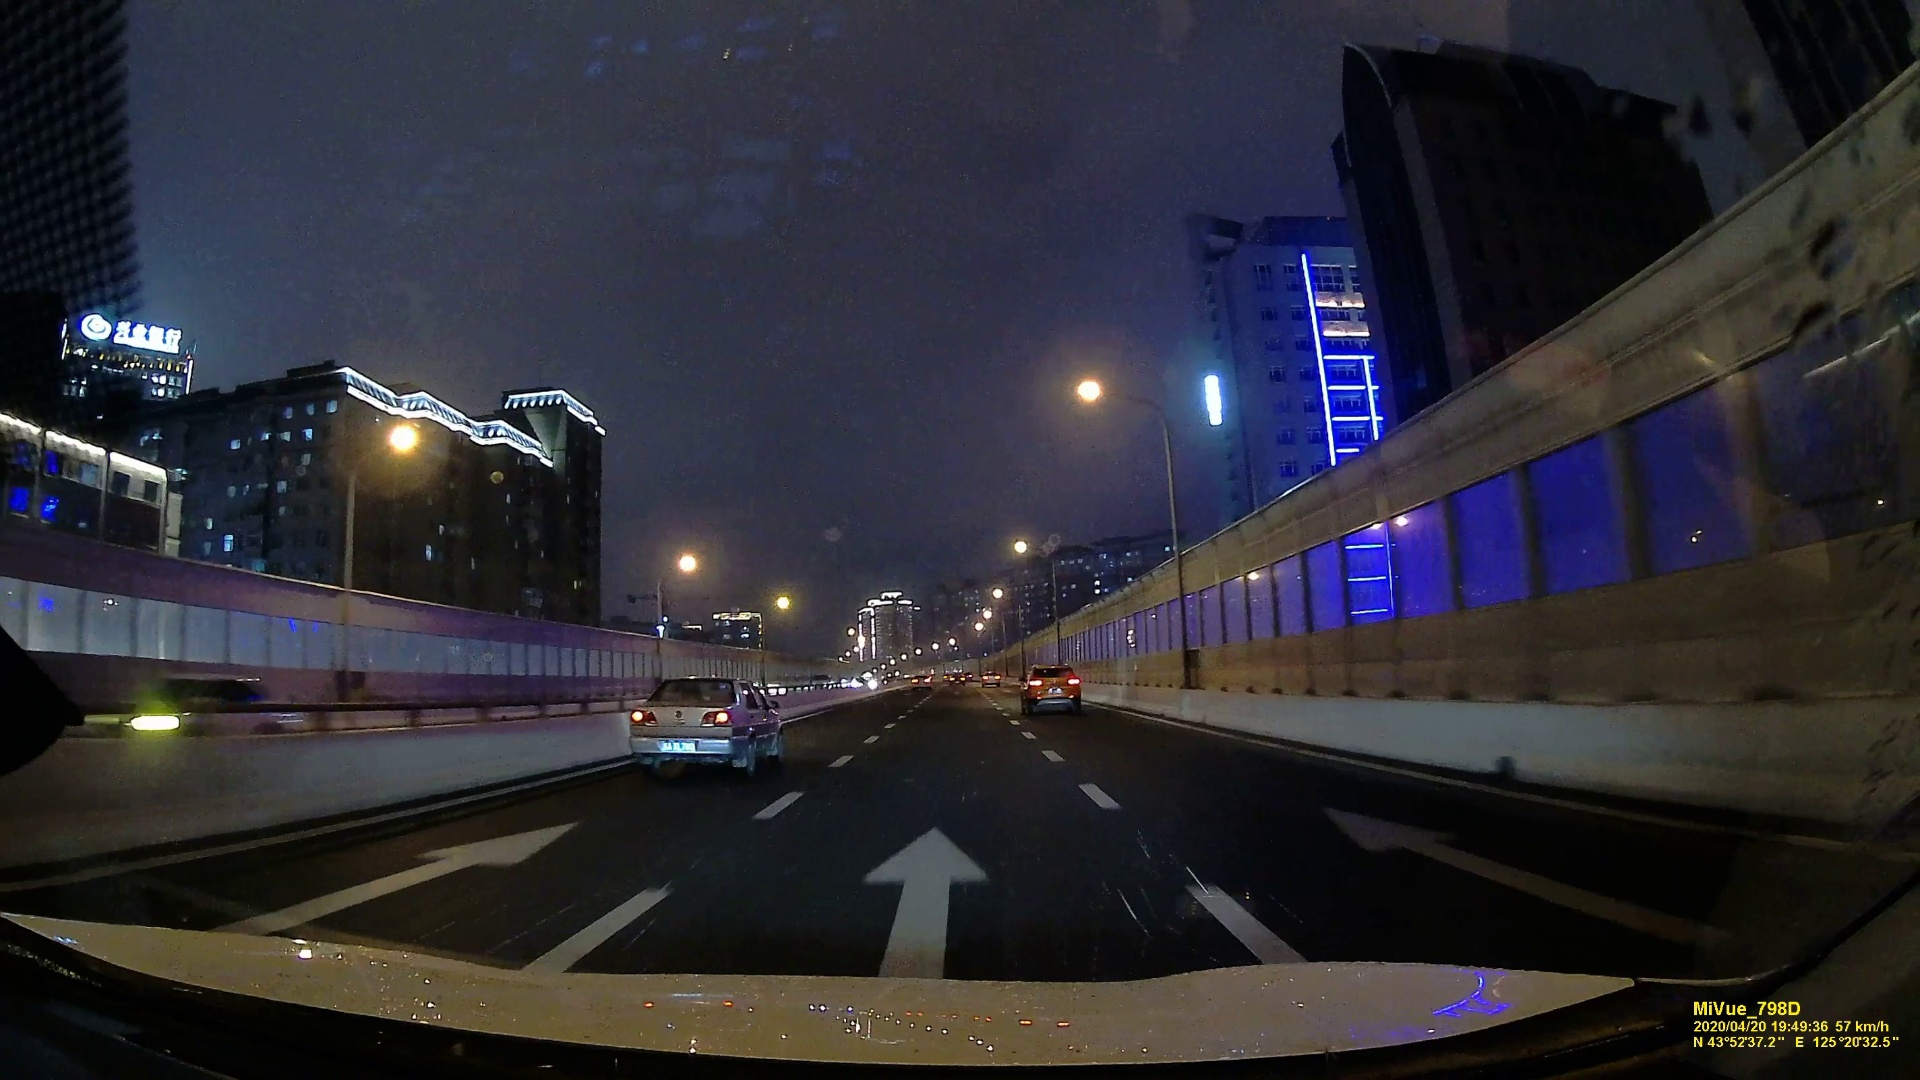vehicle: (625, 673, 787, 775), (102, 669, 302, 750), (1019, 663, 1083, 716), (982, 670, 1002, 688), (911, 674, 931, 690)
